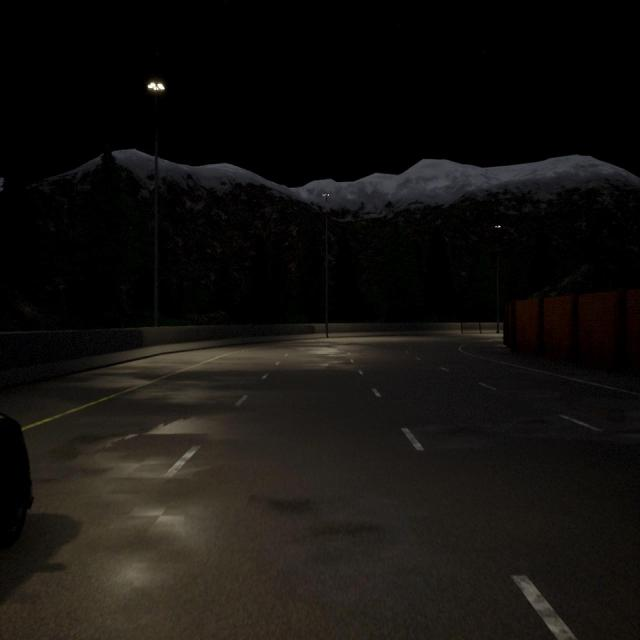Vehicle: (0, 414, 33, 554)
